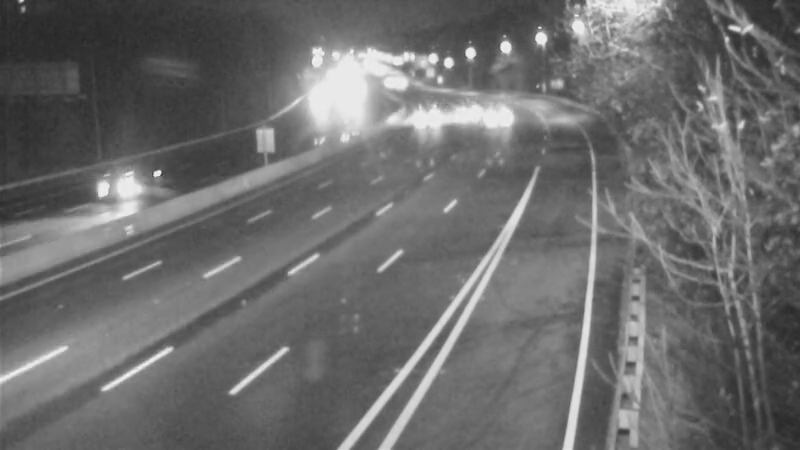vehicle: (69, 139, 149, 219), (476, 87, 526, 137), (439, 80, 489, 130), (392, 90, 442, 140)
